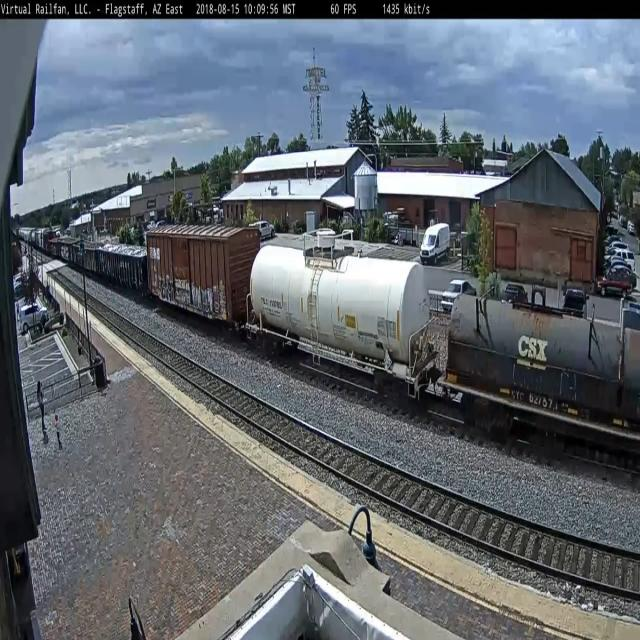boxcar: (142, 215, 264, 335)
tank: (438, 273, 640, 477), (244, 236, 439, 415)
